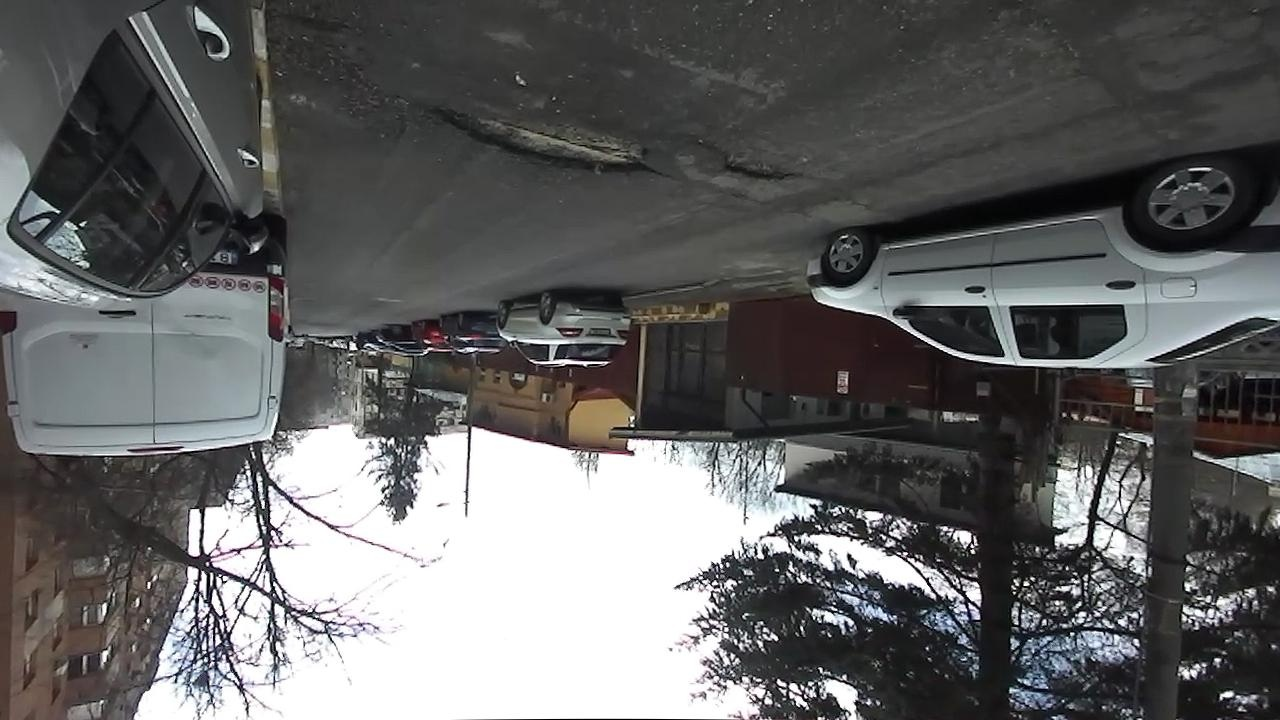pothole: (419, 92, 660, 179), (710, 146, 799, 185)
